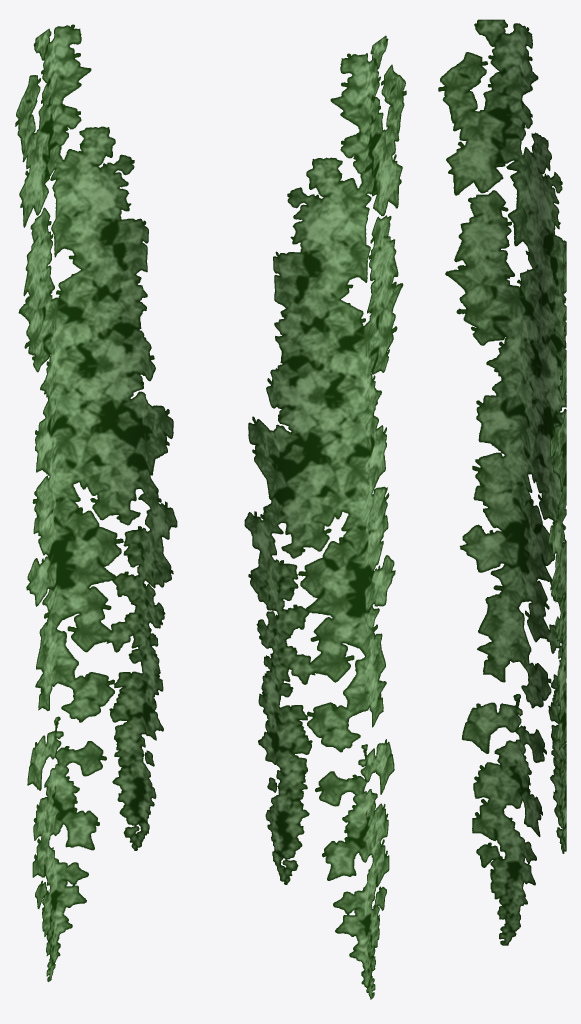
The model's file is SM_Vines04.fbx.
3 views of the same model, side by side, from view 1: azimuth 30°, elevation 25°; view 2: azimuth 210°, elevation 25°; view 3: azimuth 330°, elevation 25° (orthographic). The views are drawn at different scales.
Parts seen in each view (by area): view 1: SM_Vines04; view 2: SM_Vines04; view 3: SM_Vines04.
Part boxes in pixels (<box>): SM_Vines04: <box>15,24,177,981</box>; SM_Vines04: <box>244,35,406,999</box>; SM_Vines04: <box>438,19,566,945</box>.
Bounding box in the file's own units: 22.75 × 16.41 × 145.
